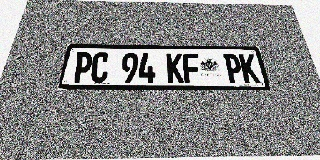4: (138, 53, 155, 83)
9: (121, 53, 139, 83)
C: (90, 52, 110, 83)
F: (182, 53, 201, 83)
K: (239, 54, 260, 83), (166, 53, 184, 83)
P: (71, 52, 93, 83), (223, 54, 244, 83)
